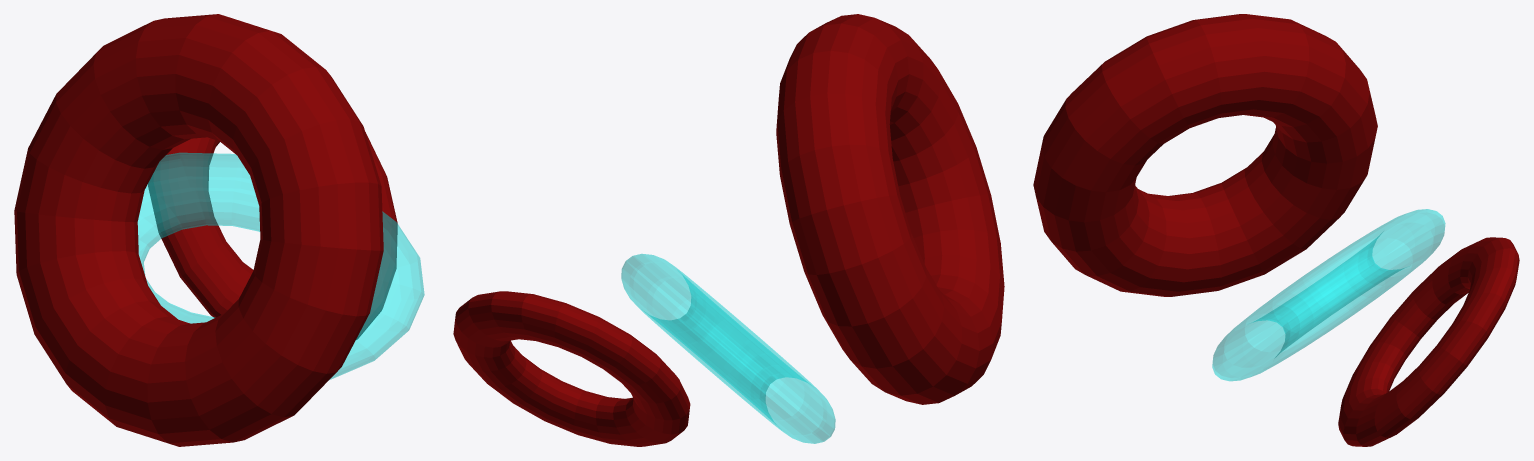
File: effect_phong_transparent_a_one.dae
3 views of the same model, side by side, from view 1: azimuth 30°, elevation 25°; view 2: azimuth 150°, elevation 25°; view 3: azimuth 270°, elevation 25° (orthographic). The views are drawn at different scales.
Visible parts, largest first — view 1: pTorus3, pTorus1, pTorus2; view 2: pTorus3, pTorus2, pTorus1; view 3: pTorus3, pTorus2, pTorus1.
Boxes of the visible parts, left/top/right/bottom form: pTorus3: left=14, top=14, right=383, bottom=446; pTorus1: left=137, top=152, right=424, bottom=379; pTorus2: left=148, top=132, right=397, bottom=339; pTorus3: left=776, top=14, right=1004, bottom=404; pTorus2: left=453, top=291, right=690, bottom=446; pTorus1: left=621, top=254, right=835, bottom=443; pTorus3: left=1033, top=14, right=1377, bottom=296; pTorus2: left=1338, top=237, right=1519, bottom=446; pTorus1: left=1212, top=209, right=1445, bottom=381.
Bounding box in the file's own units: 308 × 283 × 357.
